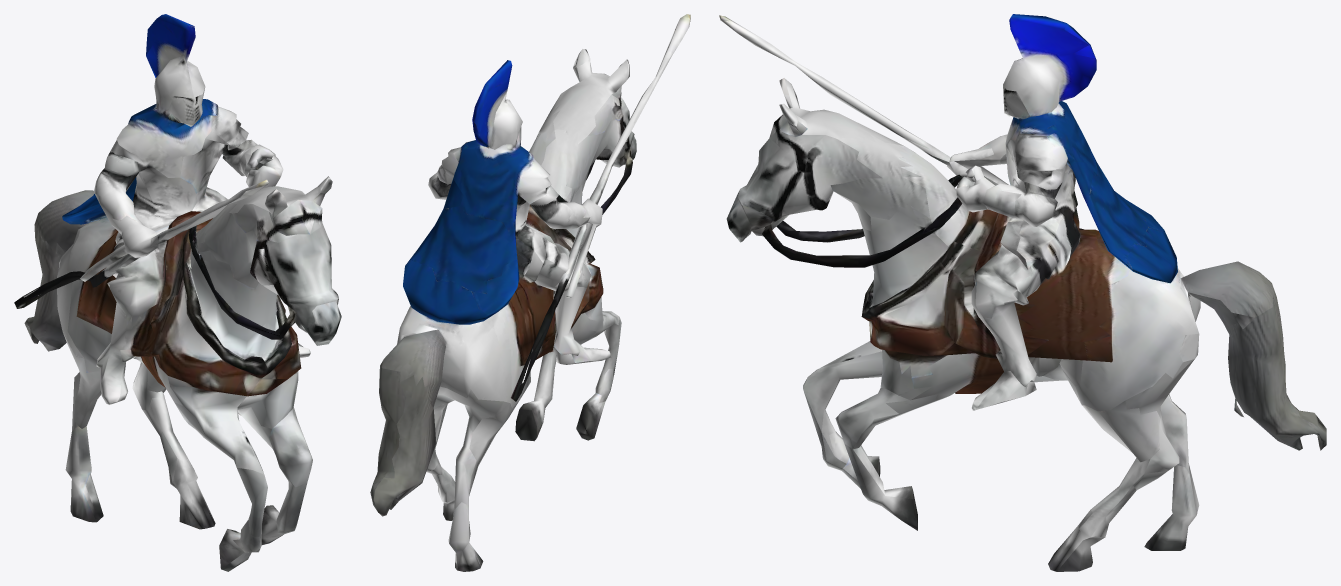
The model's file is champion.glb.
3 renders of one model, left to right at view 1: azimuth 30°, elevation 25°; view 2: azimuth 150°, elevation 25°; view 3: azimuth 270°, elevation 25°, orthographic. The views are drawn at different scales.
Size of the model in its own units: 0.7515 by 1.89 by 1.9.
Materials: 1 (1 with a texture image).
